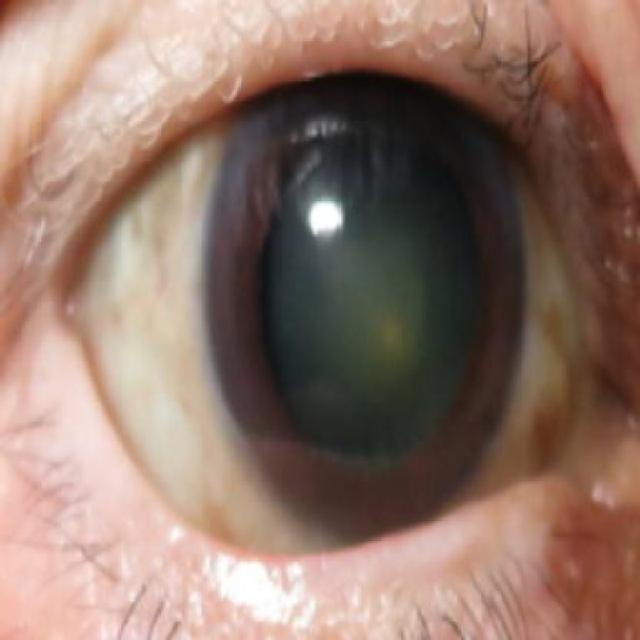Cataract: (208, 46, 524, 548)
